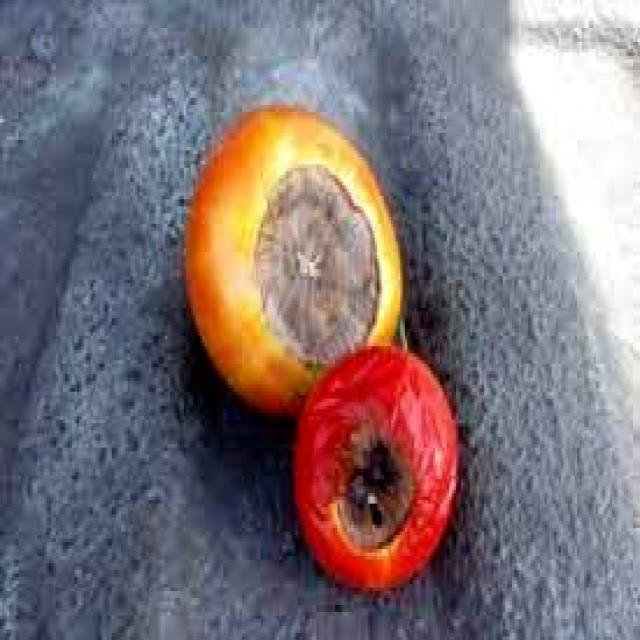Rotten_Tomato: (184, 105, 409, 406), (293, 346, 461, 598)
